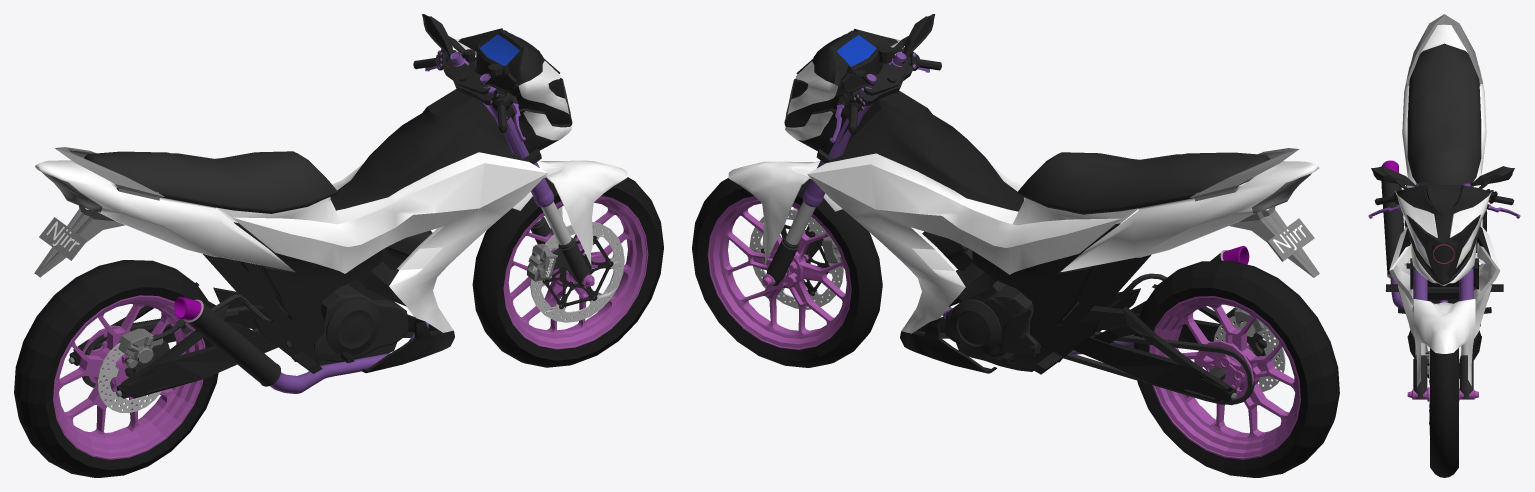
Rendered from honda_sonic150r.glb.
3 views of the same model, side by side, from view 1: azimuth 30°, elevation 25°; view 2: azimuth 150°, elevation 25°; view 3: azimuth 270°, elevation 25° (orthographic). The views are drawn at different scales.
Visible parts, largest first — view 1: S_S2_0, S_S1_0, wheel_rear_Wheel2_0, body_rear_Jok_0, wheel_front_Wheel2_0, wheel_rear_Wheel1_0, body_rear_Rear1_0, wheel_front_Wheel1_0, engine_Retopo_Engine_0, forks_rear_Arm2_0, mudguard_BF1_0, Plane02_Headlamp2_0 (+15 smaller); view 2: S_S2_0, S_S1_0, wheel_rear_Wheel2_0, wheel_rear_Wheel1_0, body_rear_Jok_0, wheel_front_Wheel2_0, wheel_front_Wheel1_0, body_rear_Rear1_0, forks_rear_Arm2_0, engine_Retopo_Engine_0, mudguard_BF1_0, Plane02_Headlamp2_0 (+10 smaller); view 3: body_rear_Jok_0, Plane02_Headlamp2_0 (×2), wheel_front_Wheel2_0, mudguard_BF1_0, S_S1_0, Plane02_Headlamp1_0, Plane02_Material #79_0, body_rear_Rear1_0, Line01_Fork1_0, Cylinder01_Retopo_Exhaust1_0, body_rear_Rear2_0, S_S2_0 (+7 smaller).
Part boxes in pixels (bbox=[...]): S_S2_0: bbox=[203, 89, 528, 373]; S_S1_0: bbox=[216, 152, 547, 332]; wheel_rear_Wheel2_0: bbox=[14, 260, 218, 477]; body_rear_Jok_0: bbox=[84, 151, 337, 213]; wheel_front_Wheel2_0: bbox=[472, 177, 663, 367]; wheel_rear_Wheel1_0: bbox=[53, 295, 205, 459]; body_rear_Rear1_0: bbox=[35, 160, 294, 271]; wheel_front_Wheel1_0: bbox=[503, 195, 648, 349]; engine_Retopo_Engine_0: bbox=[313, 230, 432, 365]; forks_rear_Arm2_0: bbox=[69, 282, 287, 398]; mudguard_BF1_0: bbox=[512, 160, 627, 265]; Plane02_Headlamp2_0: bbox=[458, 28, 572, 153]; S_S2_0: bbox=[827, 90, 1151, 374]; S_S1_0: bbox=[807, 153, 1138, 333]; wheel_rear_Wheel2_0: bbox=[1133, 260, 1339, 477]; wheel_rear_Wheel1_0: bbox=[1149, 296, 1300, 459]; body_rear_Jok_0: bbox=[1017, 152, 1269, 214]; wheel_front_Wheel2_0: bbox=[692, 178, 882, 367]; wheel_front_Wheel1_0: bbox=[707, 196, 851, 349]; body_rear_Rear1_0: bbox=[1061, 161, 1319, 271]; forks_rear_Arm2_0: bbox=[1066, 284, 1279, 401]; engine_Retopo_Engine_0: bbox=[922, 231, 1040, 371]; mudguard_BF1_0: bbox=[728, 160, 842, 265]; Plane02_Headlamp2_0: bbox=[784, 29, 897, 155]; body_rear_Jok_0: bbox=[1407, 43, 1481, 185]; Plane02_Headlamp2_0 (×2): bbox=[1395, 184, 1492, 284]; wheel_front_Wheel2_0: bbox=[1430, 348, 1458, 477]; mudguard_BF1_0: bbox=[1413, 299, 1475, 386]; S_S1_0: bbox=[1389, 164, 1500, 362]; Plane02_Headlamp1_0: bbox=[1395, 191, 1491, 285]; Plane02_Material #79_0: bbox=[1407, 215, 1479, 282]; body_rear_Rear1_0: bbox=[1402, 24, 1486, 177]; Line01_Fork1_0: bbox=[1371, 166, 1514, 209]; Cylinder01_Retopo_Exhaust1_0: bbox=[1381, 181, 1404, 274]; body_rear_Rear2_0: bbox=[1405, 14, 1483, 85]; S_S2_0: bbox=[1385, 227, 1503, 378].
Bounding box in the file's own units: 2.03 × 1.04 × 0.5372.
